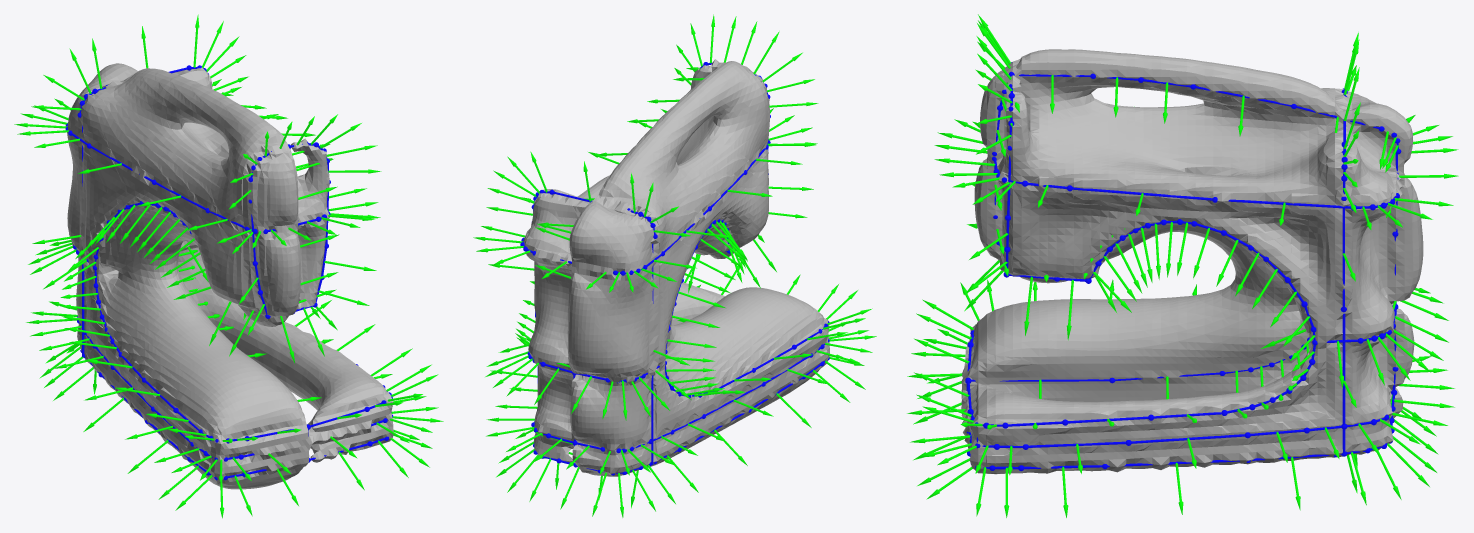
The model's file is t2f_sewing_machine.gltf.
The picture shows the model from 3 angles, left to right: view 1: azimuth 30°, elevation 25°; view 2: azimuth 150°, elevation 25°; view 3: azimuth 270°, elevation 25°; orthographic projection. The views are drawn at different scales.
Size of the model in its own units: 0.5807 by 0.7876 by 0.8864.
